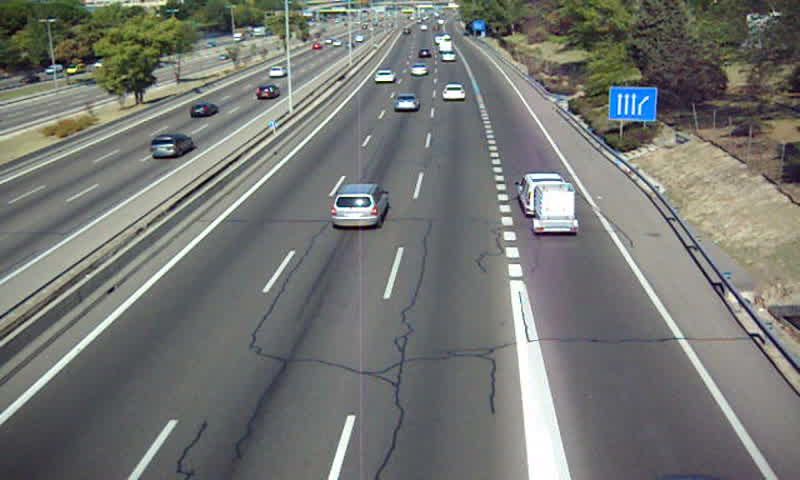car: (330, 184, 388, 228), (392, 93, 421, 112), (442, 83, 466, 101), (408, 63, 429, 78), (375, 69, 395, 84), (442, 51, 457, 62)
van: (517, 174, 569, 215)
